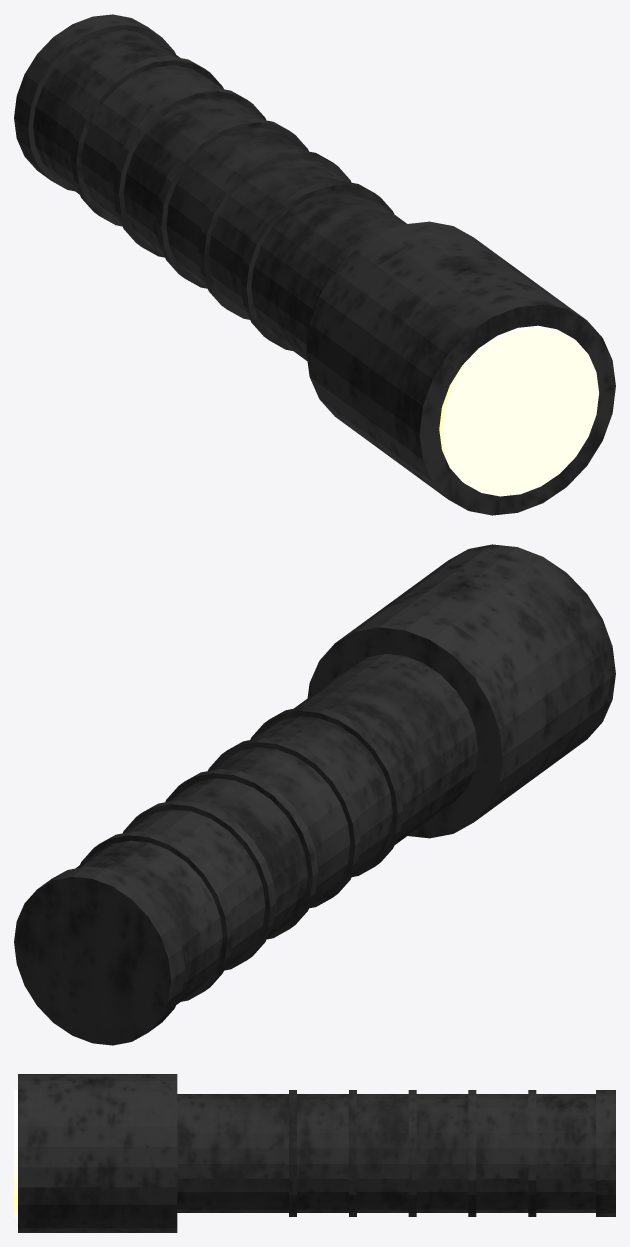
File: den_pin.glb
The picture shows the model from 3 angles, top to bottom: view 1: azimuth 30°, elevation 25°; view 2: azimuth 150°, elevation 25°; view 3: azimuth 270°, elevation 25°; orthographic projection. The views are drawn at different scales.
Parts seen in each view (by area): view 1: grip, lens; view 2: grip; view 3: grip, lens.
Part boxes in pixels (box(x1,y1,x2,y2)): grip: box(14, 14, 615, 515); lens: box(439, 325, 598, 496); grip: box(14, 544, 615, 1045); grip: box(18, 1074, 615, 1232); lens: box(14, 1090, 17, 1216).
Bounding box in the file's own units: 0.04 × 0.04 × 0.151.
2 materials, 1 textured.
